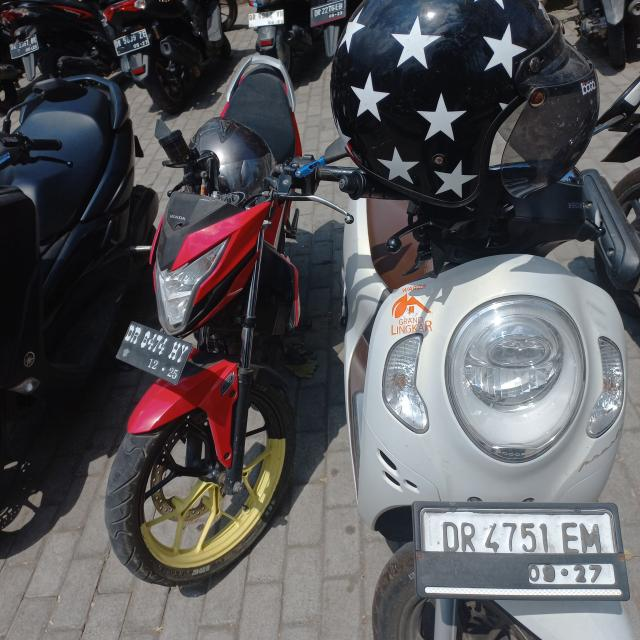plate: (416, 506, 624, 594), (113, 321, 194, 387), (112, 27, 151, 57), (9, 34, 40, 60), (311, 0, 344, 23), (248, 9, 285, 27)
